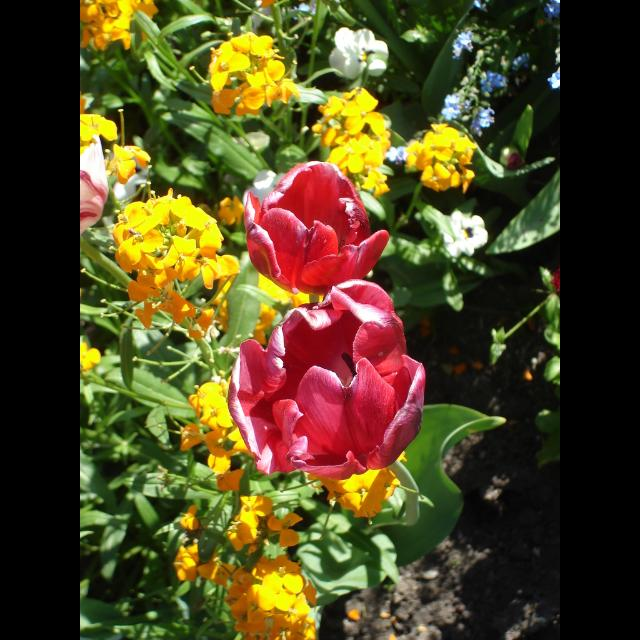Flower: (221, 279, 425, 485), (240, 154, 384, 296), (108, 190, 242, 334), (174, 381, 256, 499), (308, 88, 394, 196), (230, 551, 316, 639), (214, 32, 296, 108), (401, 126, 475, 198), (80, 112, 118, 238), (80, 0, 164, 52)
